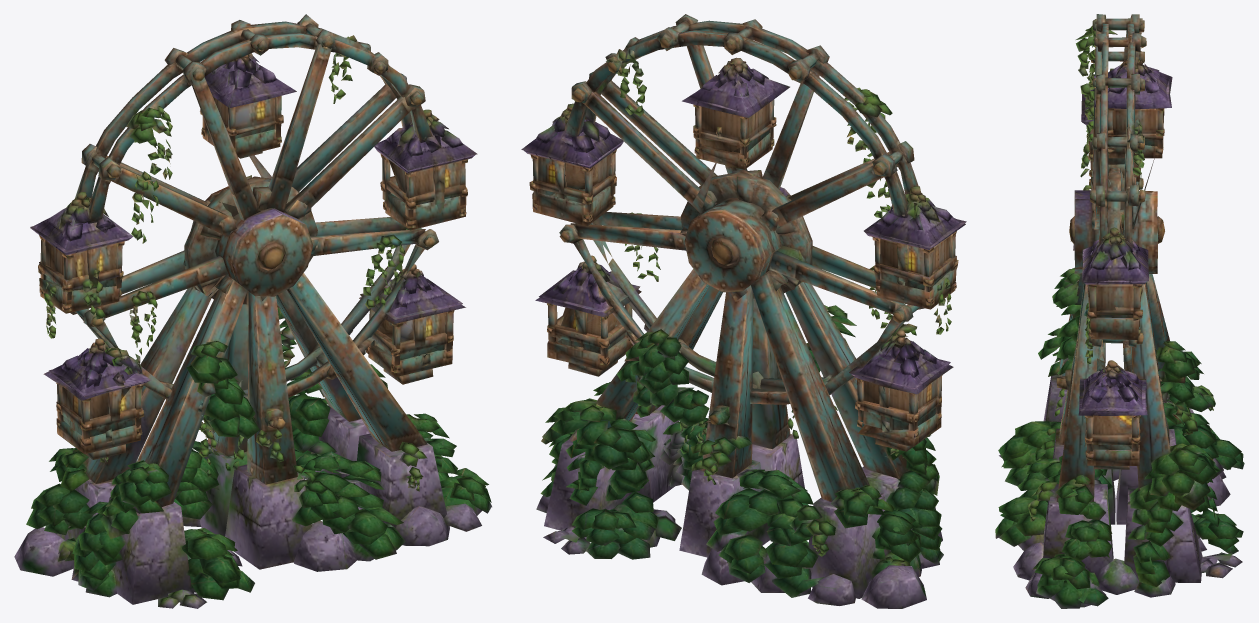
File: wheel.glb
3 renders of one model, left to right at view 1: azimuth 30°, elevation 25°; view 2: azimuth 150°, elevation 25°; view 3: azimuth 270°, elevation 25°, orthographic. The views are drawn at different scales.
Visible parts, largest first — view 1: wheel; view 2: wheel; view 3: wheel.
Boxes of the visible parts, box(x1,y1,x2,y2) form: wheel: box(14, 14, 491, 608); wheel: box(521, 14, 966, 608); wheel: box(995, 14, 1244, 608).
Size of the model in its own units: 0.8633 by 1 by 0.4732.
1 material, 1 textured.
